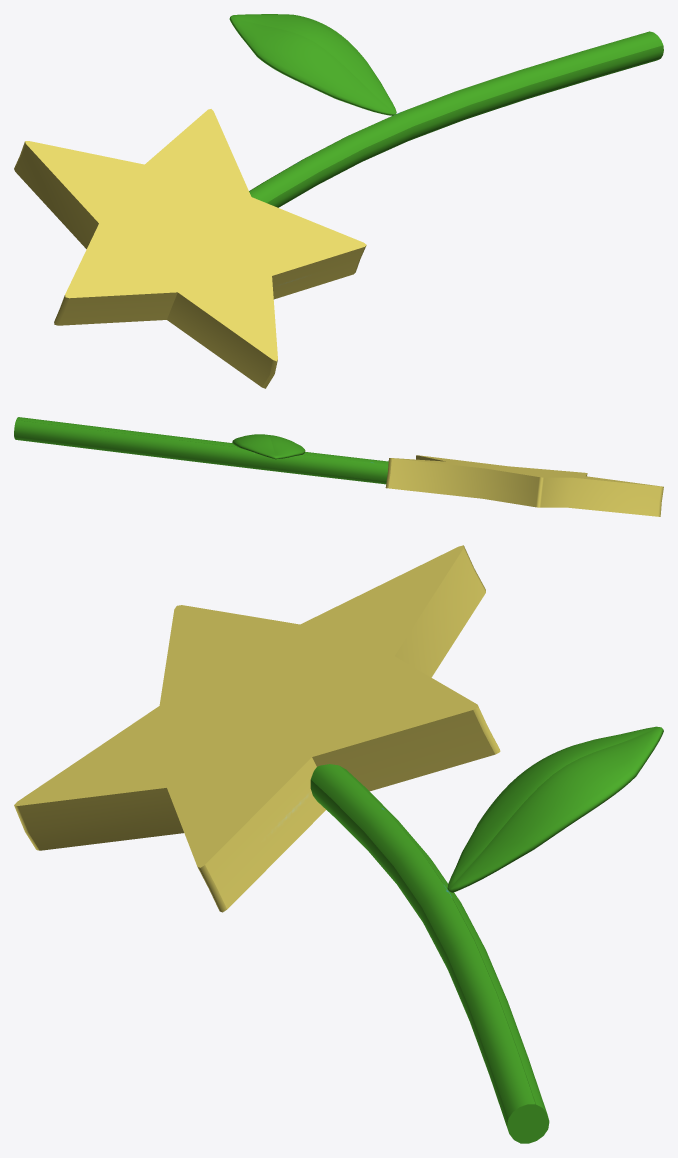
Rendered from FlorEstrelaCadente.fbx.
The picture shows the model from 3 angles, top to bottom: view 1: azimuth 30°, elevation 25°; view 2: azimuth 150°, elevation 25°; view 3: azimuth 270°, elevation 25°; orthographic projection. The views are drawn at different scales.
Visible parts, largest first — view 1: Flor Estrela Cadente - Low; view 2: Flor Estrela Cadente - Low; view 3: Flor Estrela Cadente - Low.
Boxes of the visible parts, <box> form: Flor Estrela Cadente - Low: <box>14,14,663,388</box>; Flor Estrela Cadente - Low: <box>14,417,663,516</box>; Flor Estrela Cadente - Low: <box>14,545,663,1143</box>.
Size of the model in its own units: 201 by 46.31 by 109.
